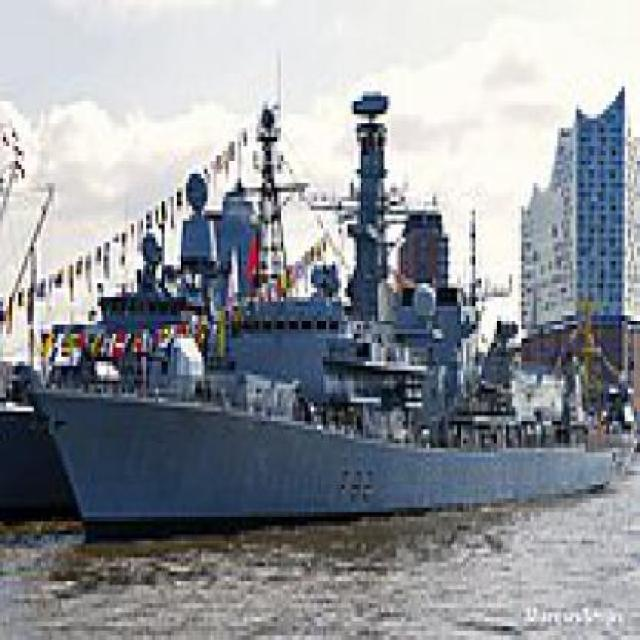warship2: (53, 97, 611, 554)
